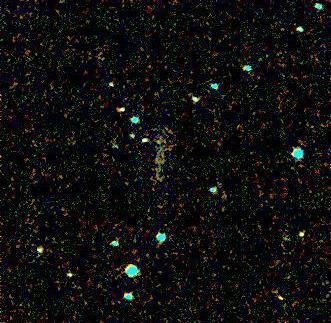star: (143, 127, 173, 157)
